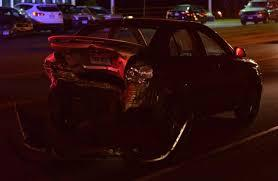Bumper: (50, 79, 169, 121)
Dickey: (48, 35, 151, 83)
Light: (124, 65, 155, 86), (38, 61, 60, 89)
